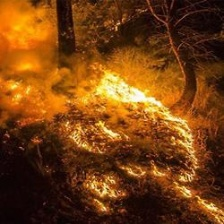fire: (36, 54, 219, 221)
